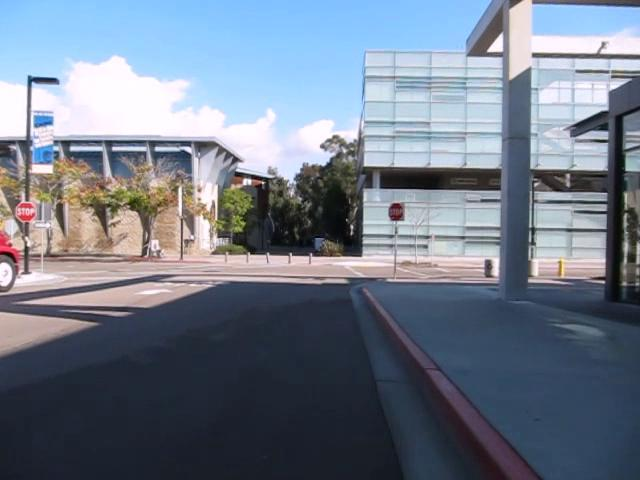stop: (387, 201, 404, 222)
